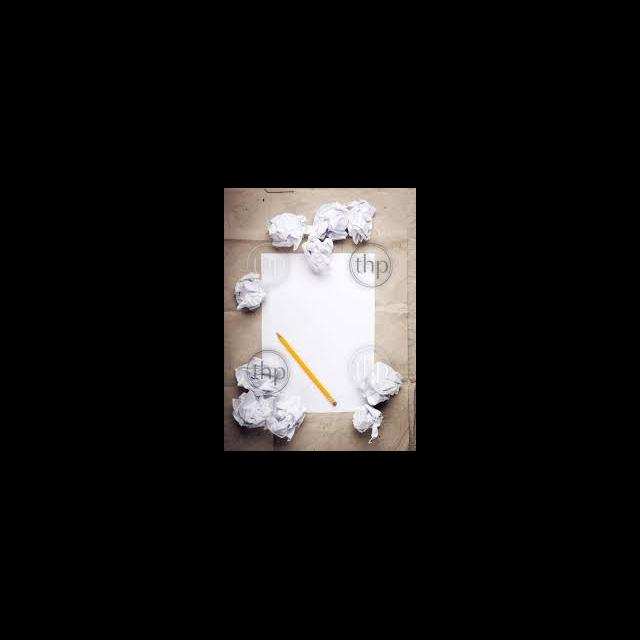paper: (258, 252, 374, 412), (311, 198, 375, 246), (233, 356, 289, 396), (356, 363, 402, 408), (263, 396, 306, 439), (231, 389, 273, 432), (298, 228, 333, 276), (267, 212, 306, 250), (232, 272, 265, 310), (350, 404, 381, 442)
